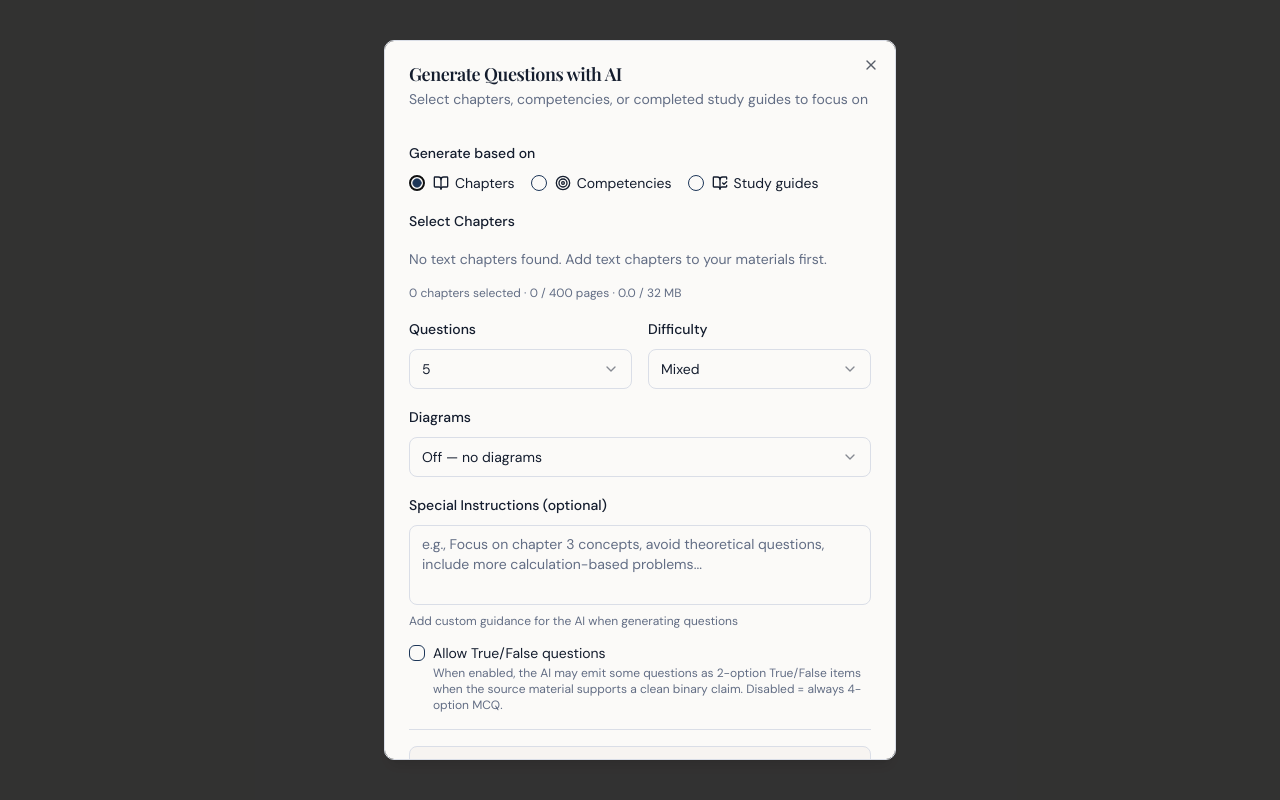
GenerateMcqDialog (#873) › submits selected guides as studyGuideIds, with no chapter payload
Later steps or results of the test are not shown.
Step 1. Click the 3rd radio button named "Study guides" → coordinates (696, 183), box [688,175,704,191]
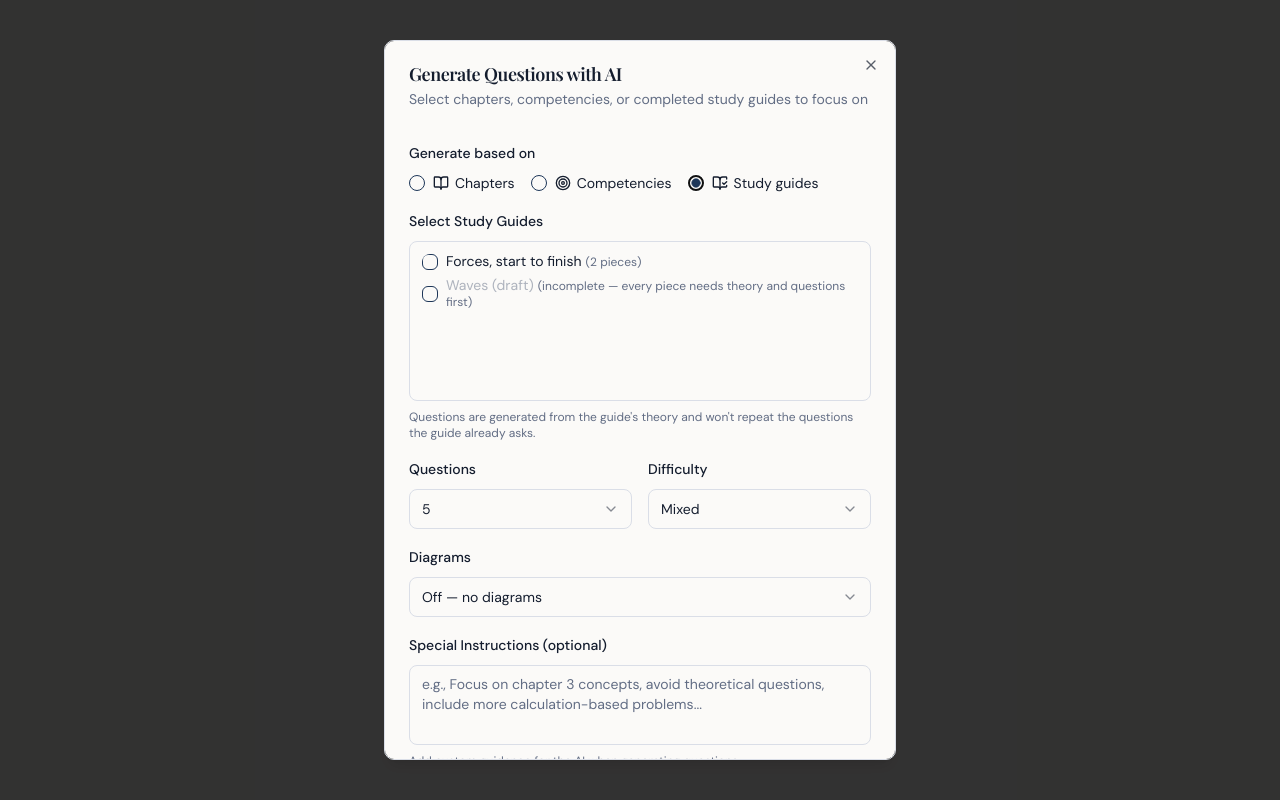
Step 2. Click the checkbox named "Forces, start to finish" next to "Forces, start to finish" → coordinates (430, 262), box [422,254,438,270]
(page scrolled)
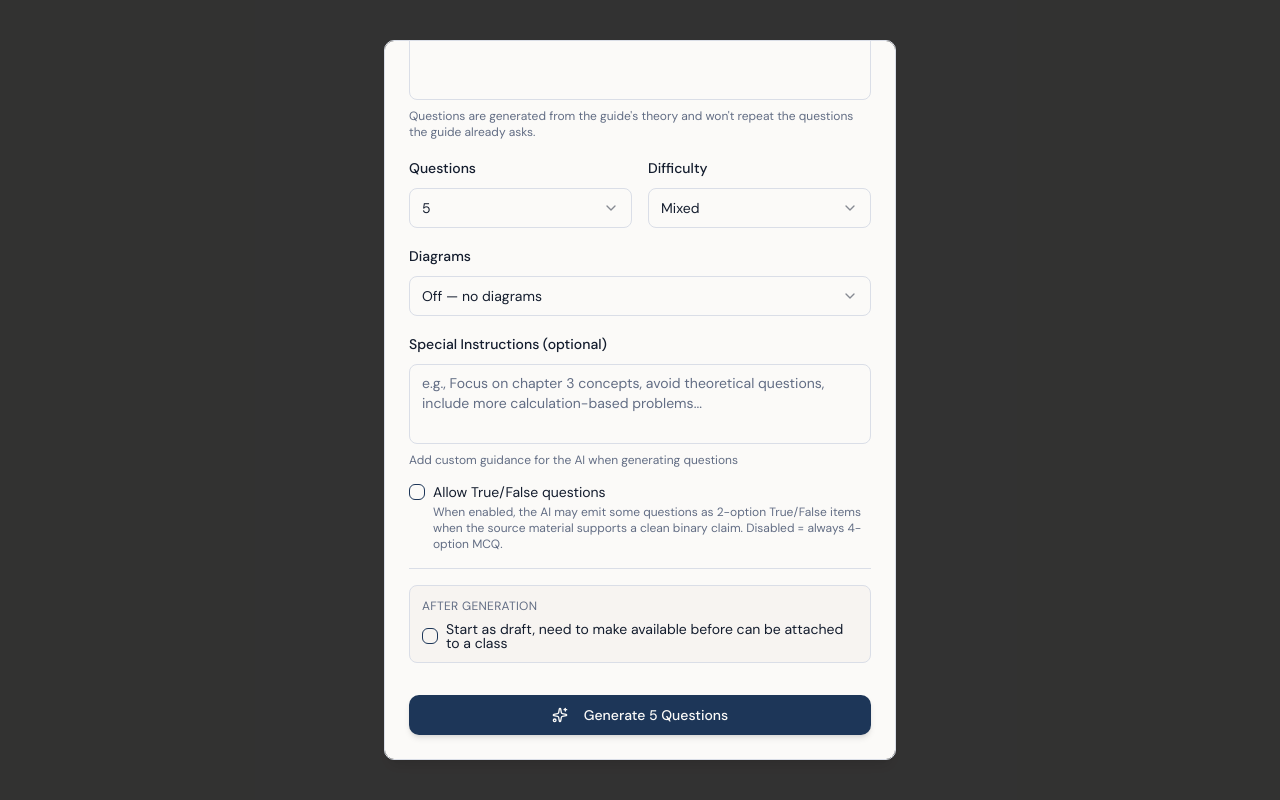
expect the button "Generate 5 Questions" is enabled: met, box [409,695,871,735]
